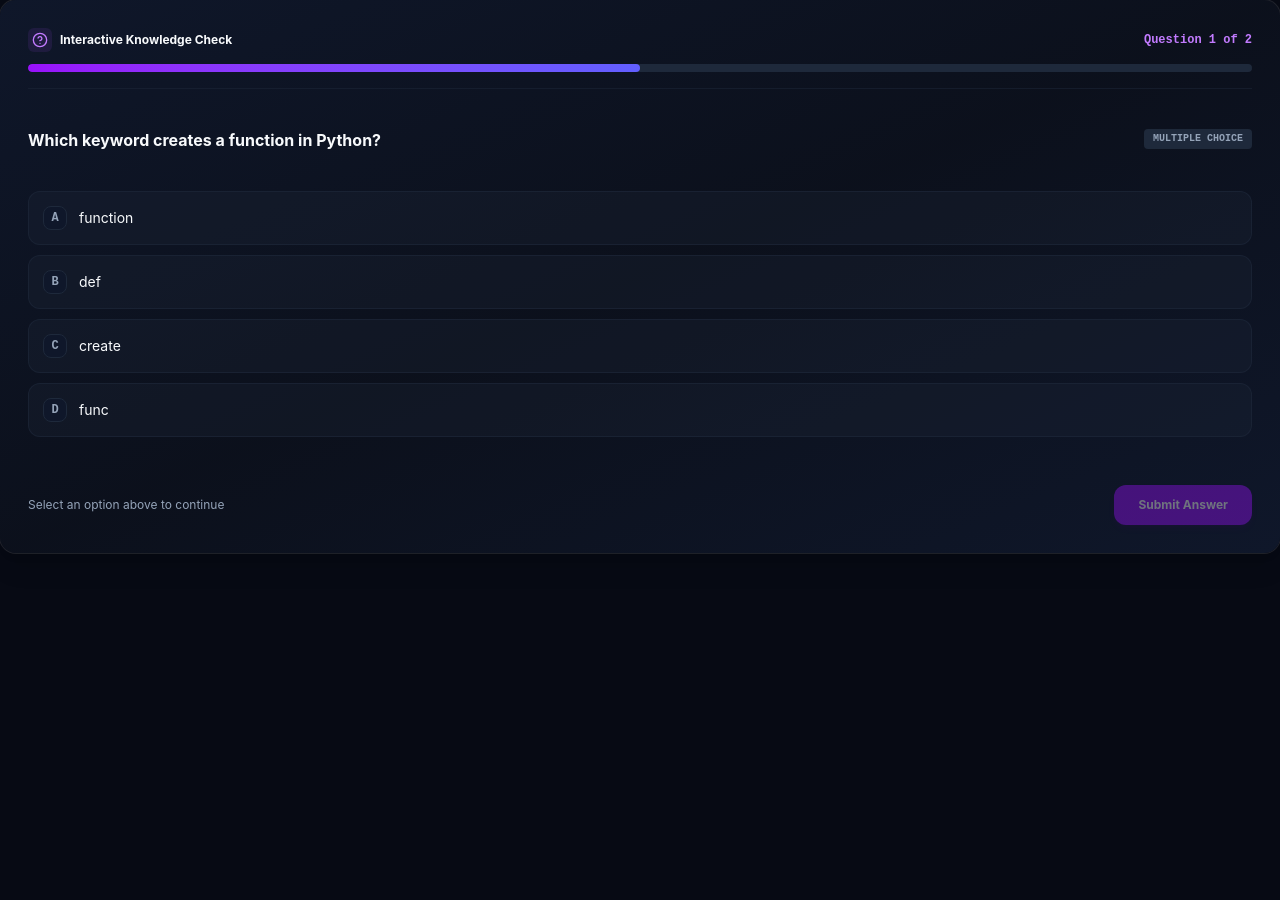
Scenario: RevBodhLessonQuiz 1-Question-at-a-Time Stepper › allows selecting an option, submits answer, shows instant feedback, and advances to next question
Note: Select Option B ("def")
Click the text "def" at [90, 282], box [79,271,101,293]
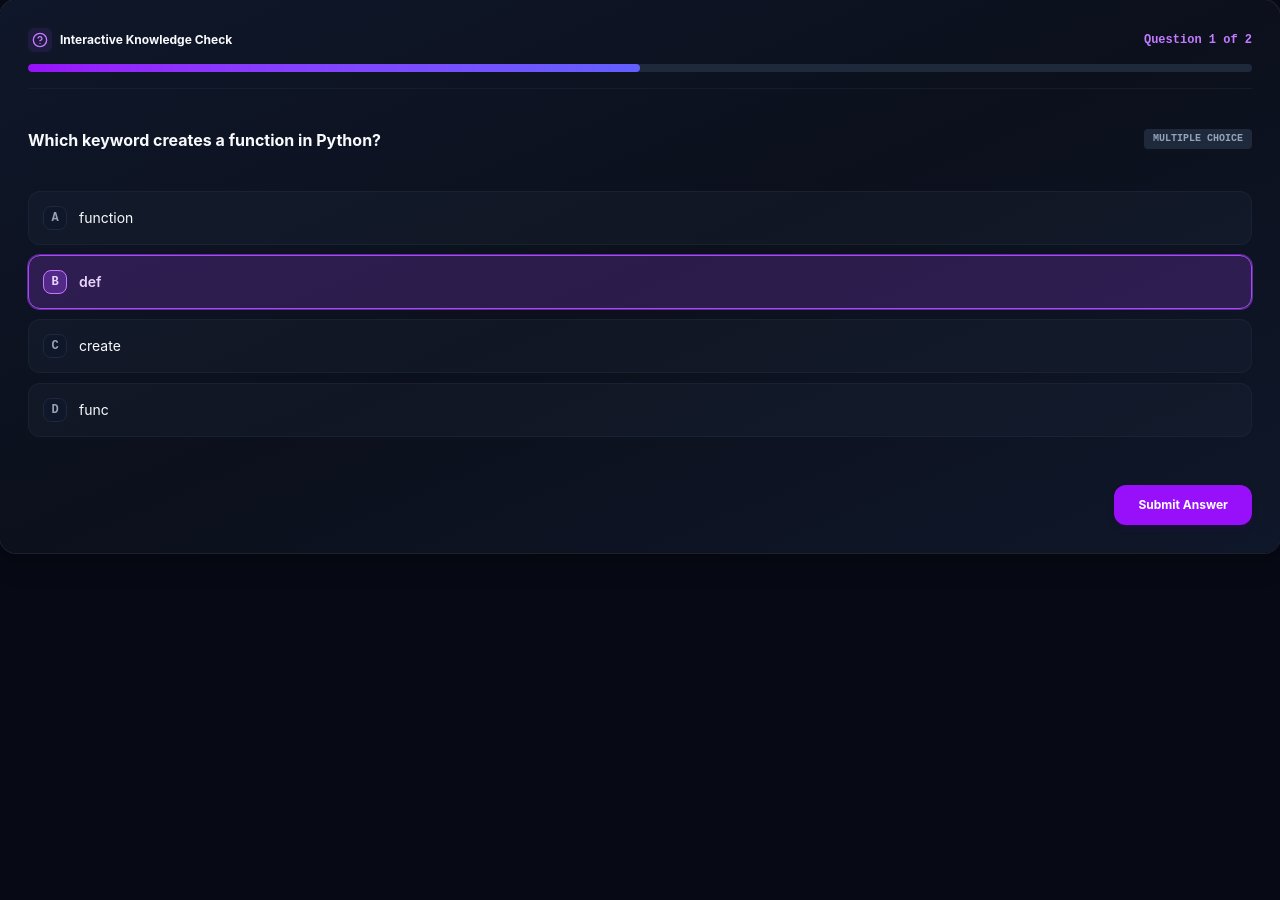
Expected: the button "Submit Answer" is enabled
Click the button "Submit Answer" at [1183, 505], box [1114,485,1252,525]
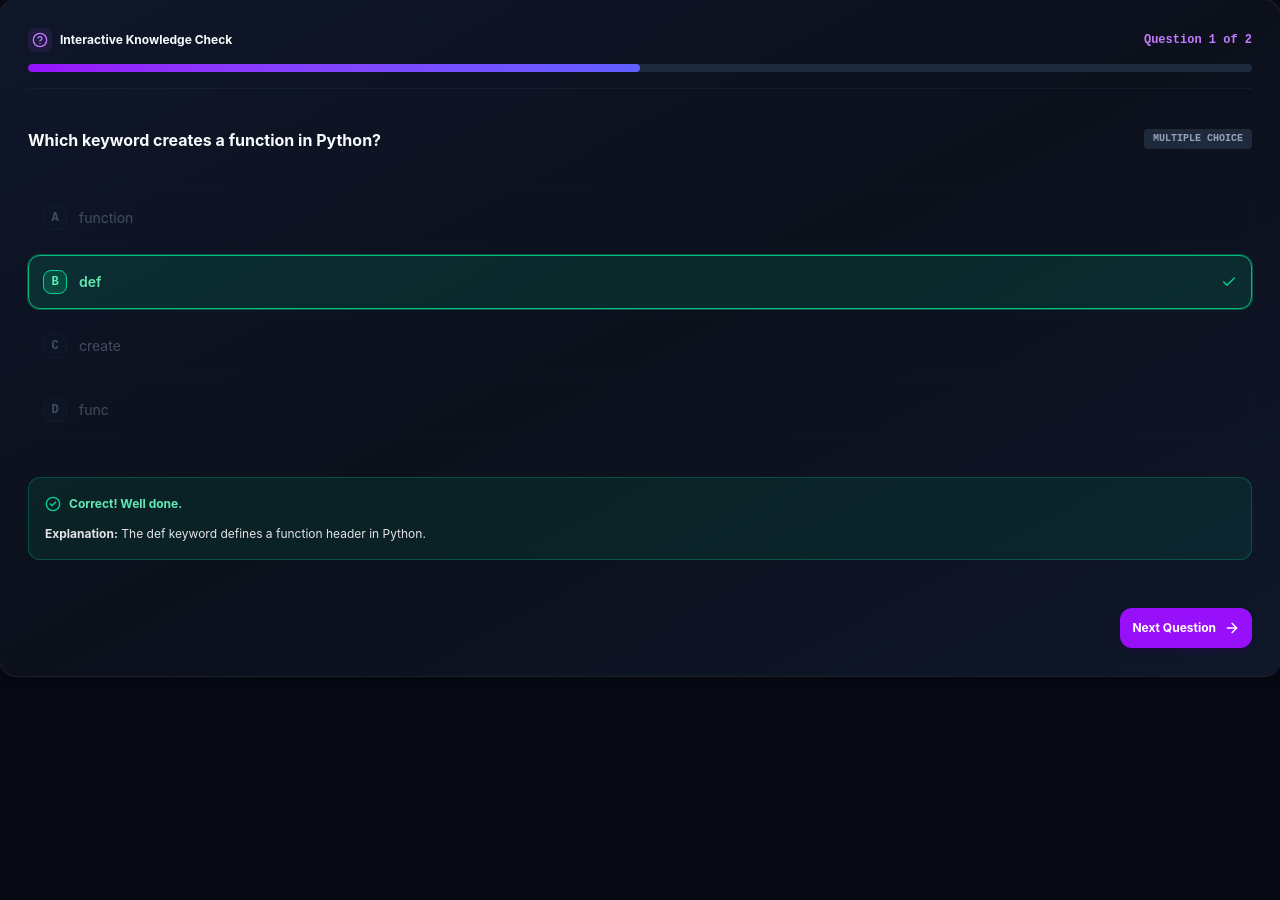
Expected: the text "Correct! Well done." is shown, [69,494,182,514]
Expected: the text "The def keyword defines a function" is shown, [121,526,426,540]
Note: Next Question button appears
Click the button "Next Question" at [1186, 628], box [1120,608,1252,648]
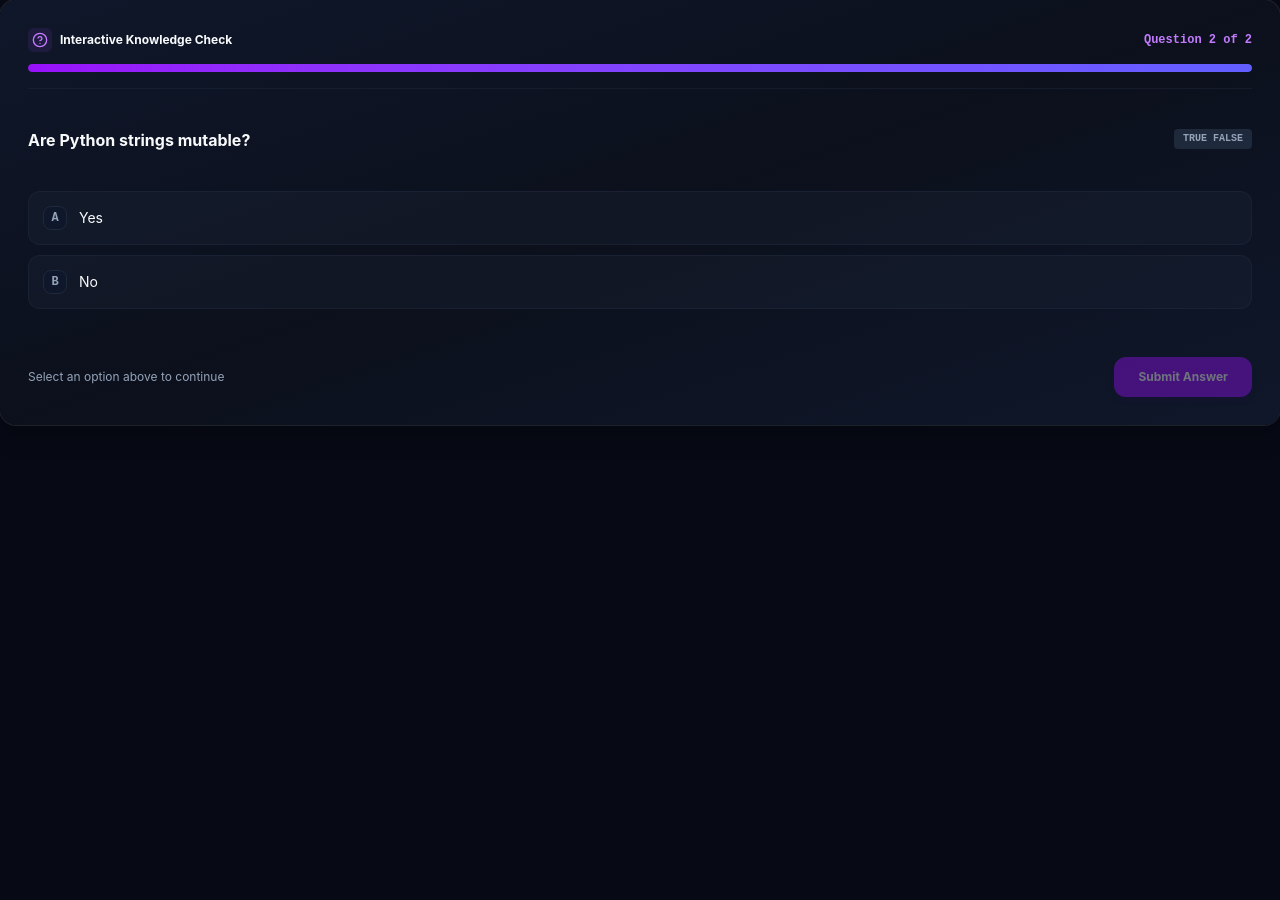
Expected: the text "Question 2 of 2" is shown, [1144,32,1252,48]
Expected: the heading "Are Python strings mutable?" is shown, [28,129,250,151]
